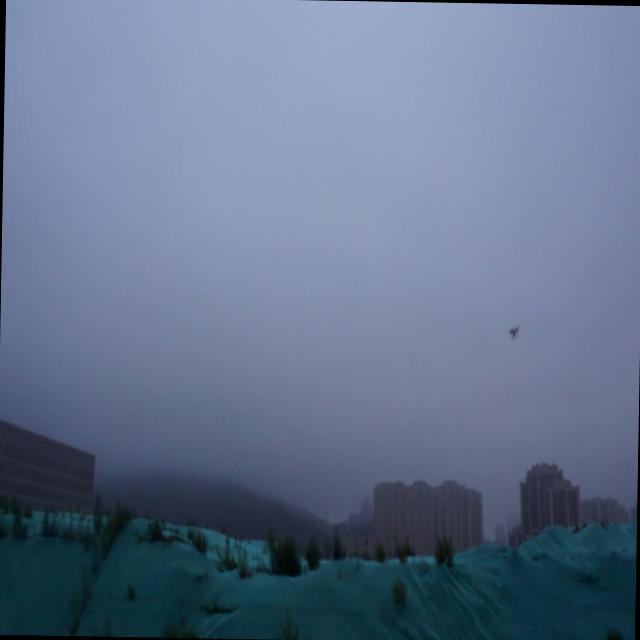drone: (506, 322, 522, 340)
